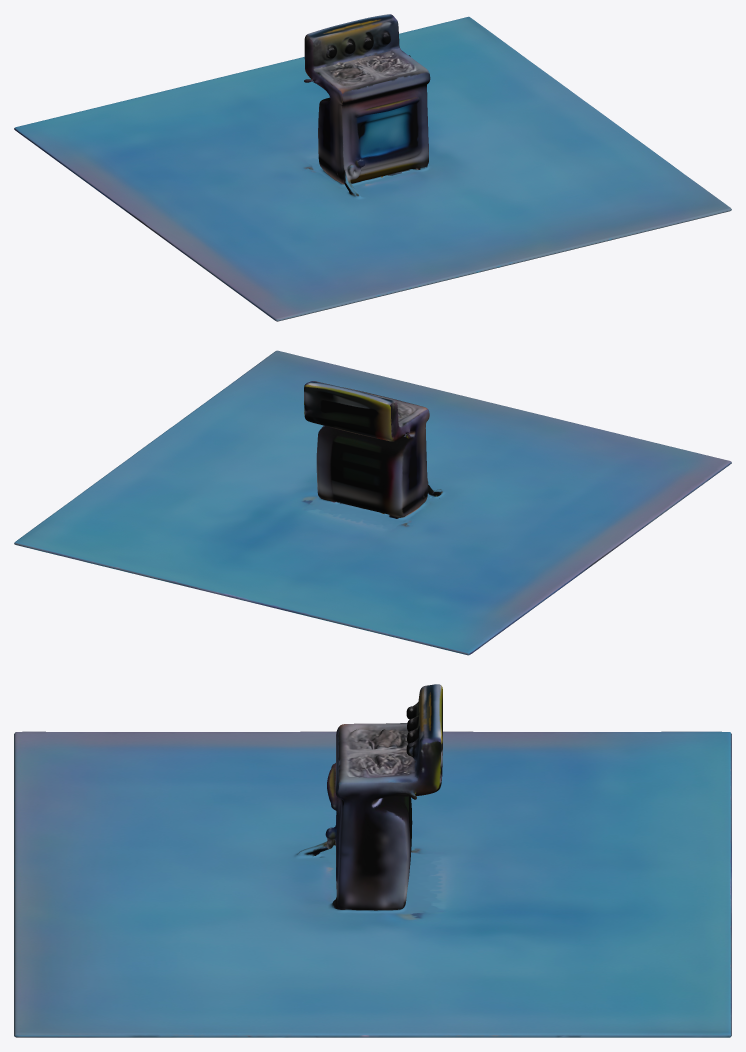
The model's file is stove-failed.glb.
3 renders of one model, top to bottom at view 1: azimuth 30°, elevation 25°; view 2: azimuth 150°, elevation 25°; view 3: azimuth 270°, elevation 25°, orthographic. The views are drawn at different scales.
Visible parts, largest first — view 1: textured; view 2: textured; view 3: textured.
Boxes of the visible parts, <box> form: textured: <box>14,14,731,321</box>; textured: <box>14,350,731,655</box>; textured: <box>14,684,731,1037</box>.
Bounding box in the file's own units: 1.99 × 0.5506 × 1.99.
Materials: 1 (1 with a texture image).
